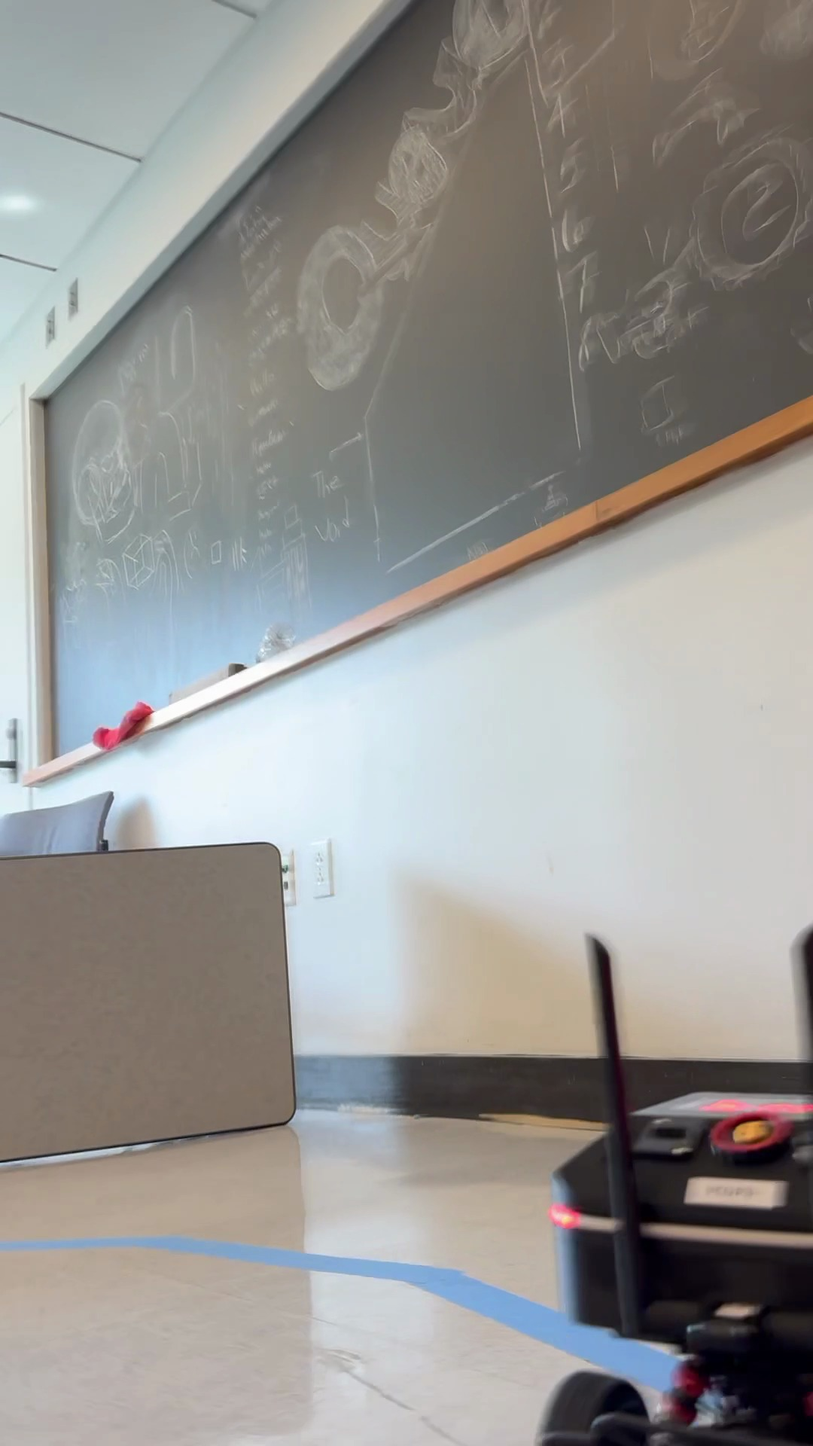racecar: (522, 931, 813, 1444)
